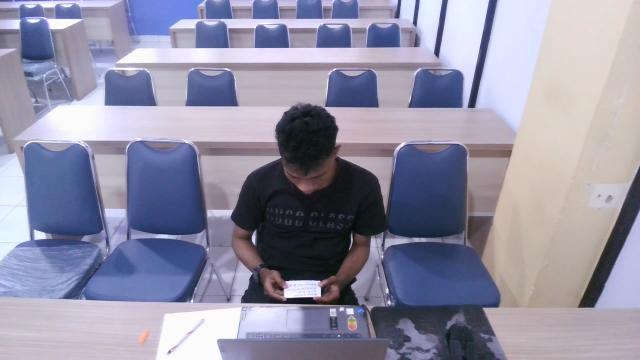Cheat_Sheet: (272, 275, 329, 305)
Head_Down_Extreme: (226, 102, 391, 360)
